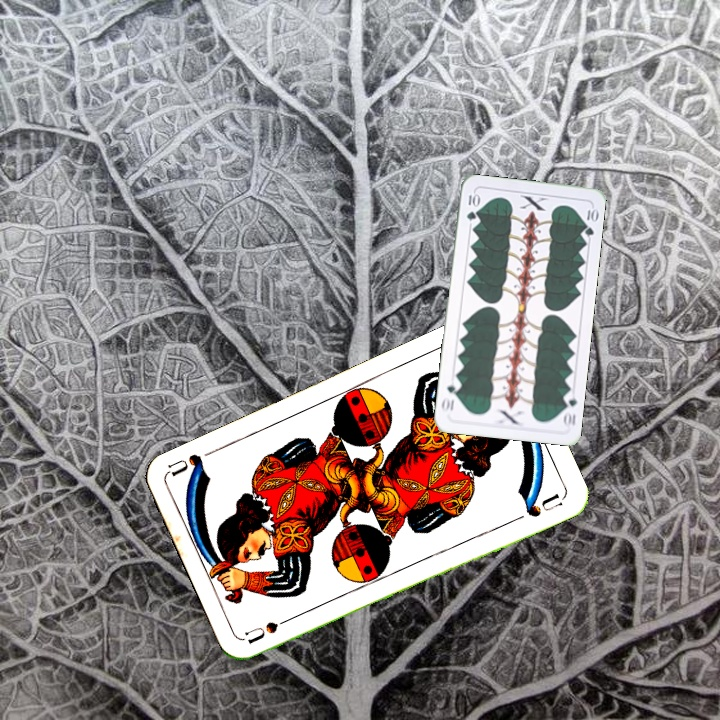G10: (559, 388, 579, 430), (463, 189, 480, 223)
SU: (241, 611, 299, 647)
